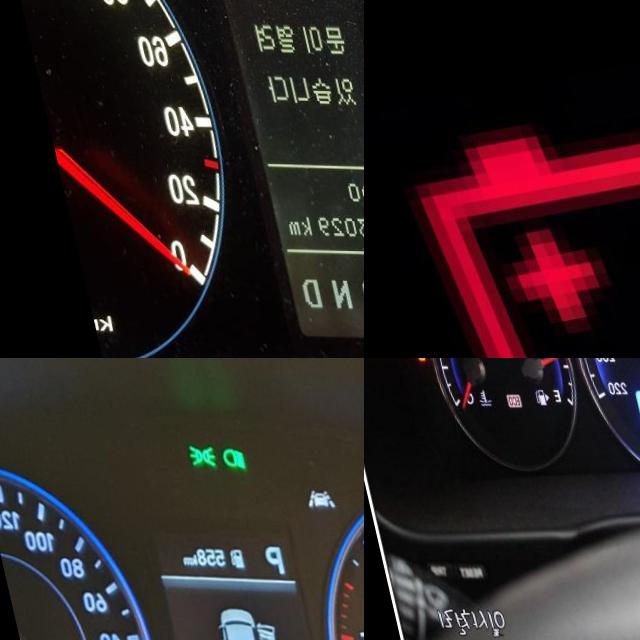LaneCenteringOff: (296, 488, 327, 507)
Low beam: (213, 445, 241, 469)
SideLamp: (180, 443, 211, 466)
